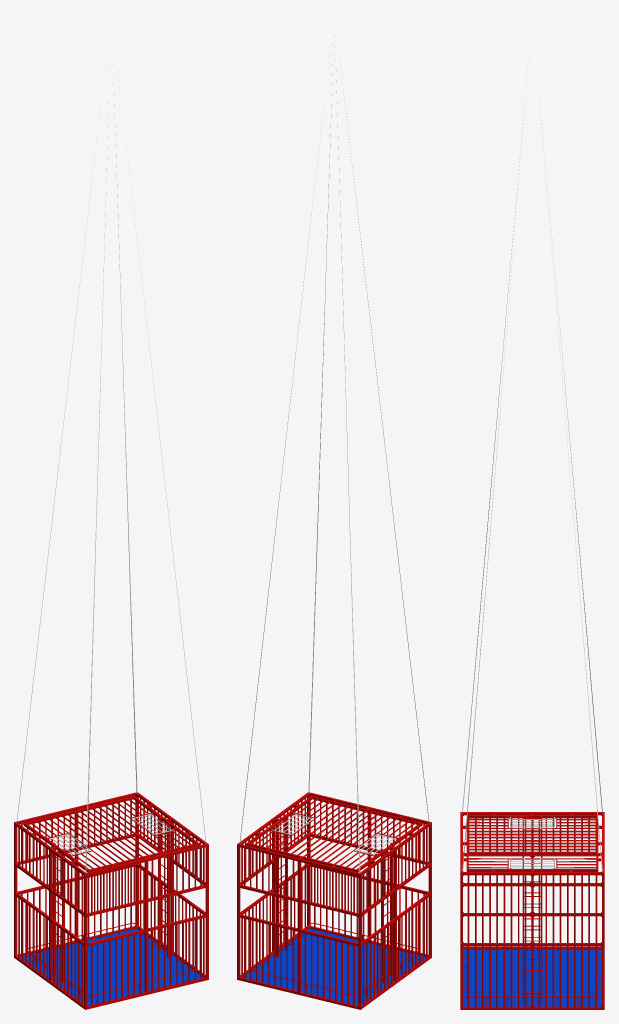
The model's file is SharkCage_Sketchfab.fbx.
3 renders of one model, left to right at view 1: azimuth 30°, elevation 25°; view 2: azimuth 150°, elevation 25°; view 3: azimuth 270°, elevation 25°, orthographic.
Visible parts, largest first — view 1: Cage, Rope; view 2: Cage, Rope; view 3: Cage, Rope, CageEntrance_02.
Part boxes in pixels (left/top/right/bottom): Cage: left=14, top=792, right=208, bottom=1009; Rope: left=16, top=34, right=206, bottom=872; Cage: left=237, top=792, right=431, bottom=1009; Rope: left=239, top=34, right=429, bottom=872; Cage: left=460, top=812, right=604, bottom=1009; Rope: left=462, top=59, right=602, bottom=871; CageEntrance_02: left=510, top=817, right=554, bottom=828.
Bounding box in the file's own units: 204 × 1503 × 204.
